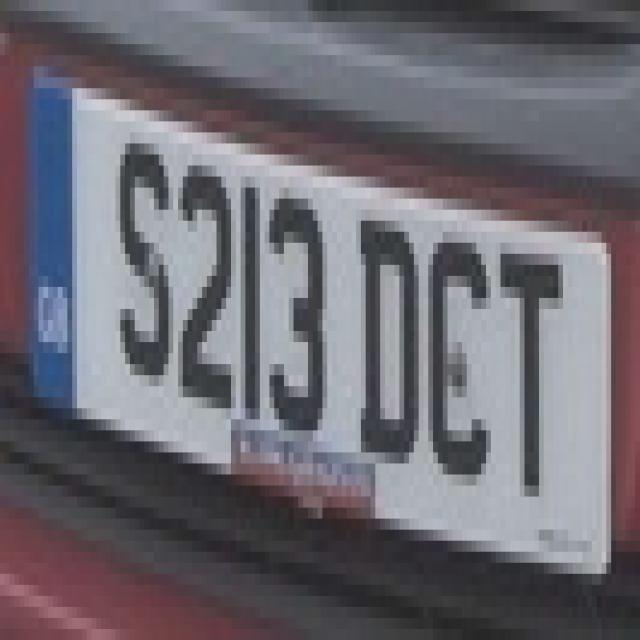licenseplate: (16, 29, 620, 605)
